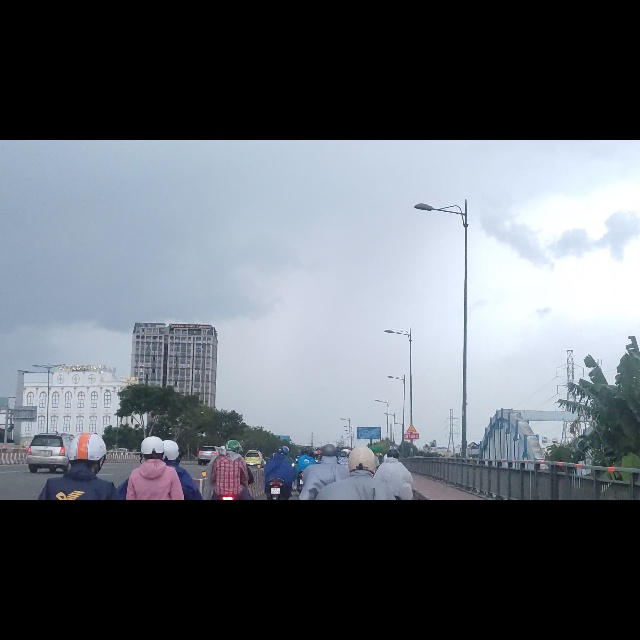bien_nguy_hiem: (406, 503, 417, 520)
